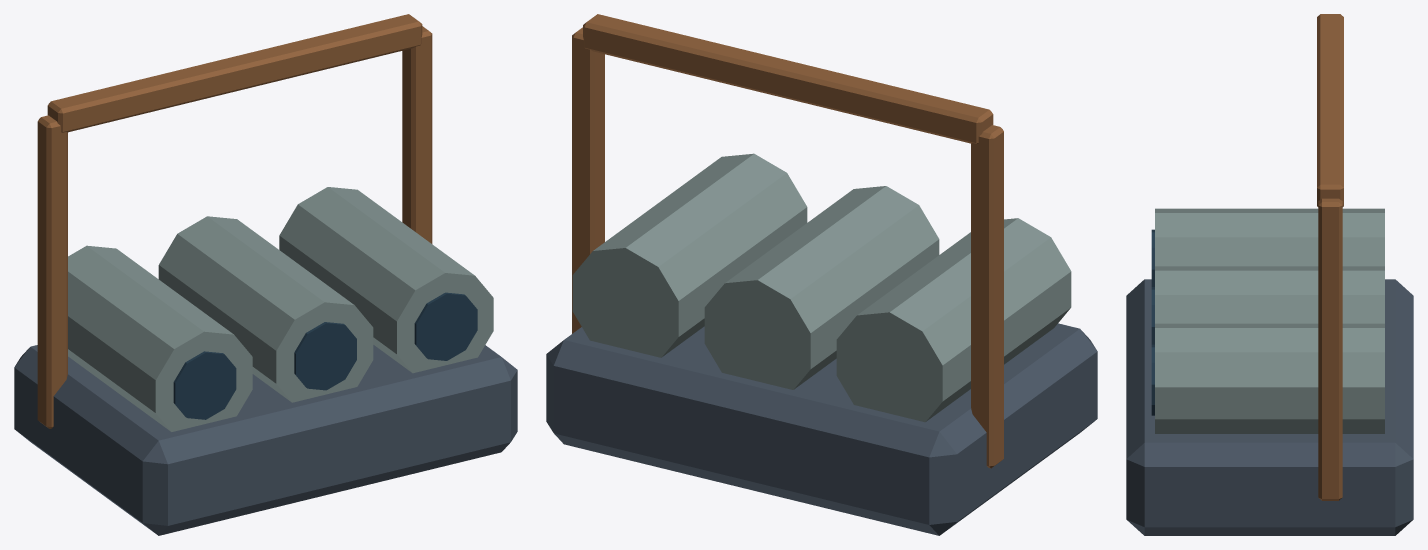
File: basaltworks.glb
3 renders of one model, left to right at view 1: azimuth 30°, elevation 25°; view 2: azimuth 150°, elevation 25°; view 3: azimuth 270°, elevation 25°, orthographic. The views are drawn at different scales.
Parts seen in each view (by area): view 1: workbed; view 2: workbed; view 3: workbed.
Part boxes in pixels (<box>): workbed: <box>14,14,517,535</box>; workbed: <box>546,14,1097,535</box>; workbed: <box>1126,14,1413,535</box>.
Size of the model in its own units: 1.44 by 1.3 by 0.95.
